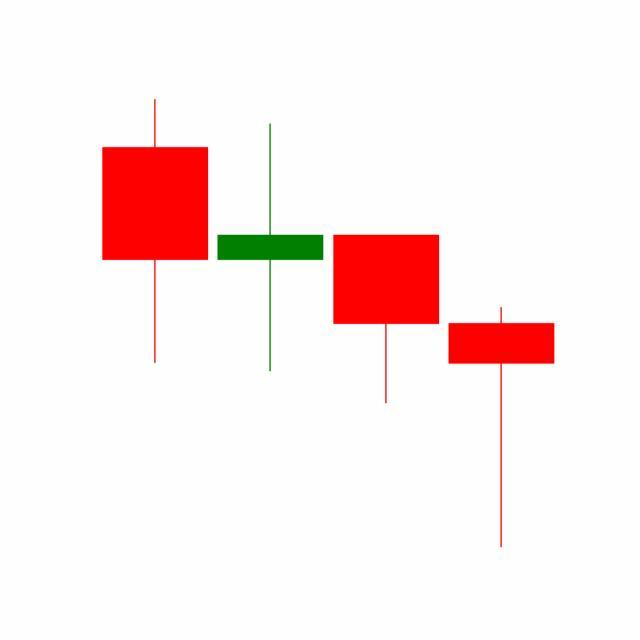Hammer: (444, 304, 560, 551)
